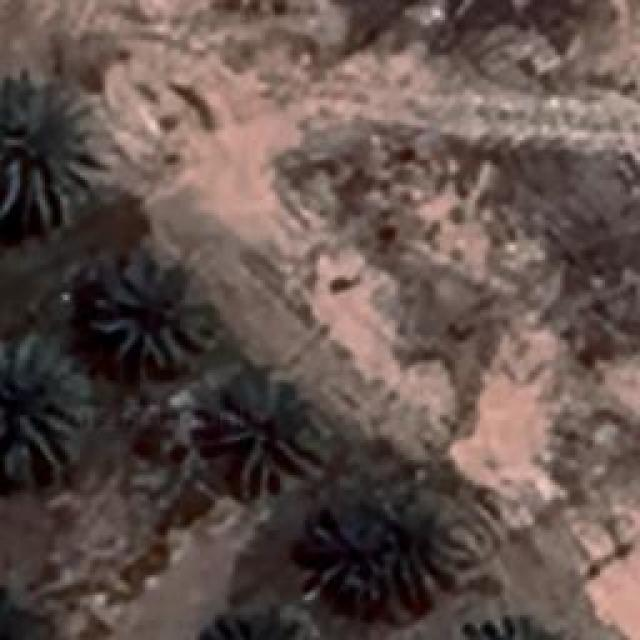PalmTree: (324, 482, 454, 606), (0, 85, 102, 225), (212, 372, 320, 498), (90, 255, 210, 368), (0, 340, 88, 475), (186, 604, 325, 640), (0, 588, 57, 640), (457, 610, 565, 635)
